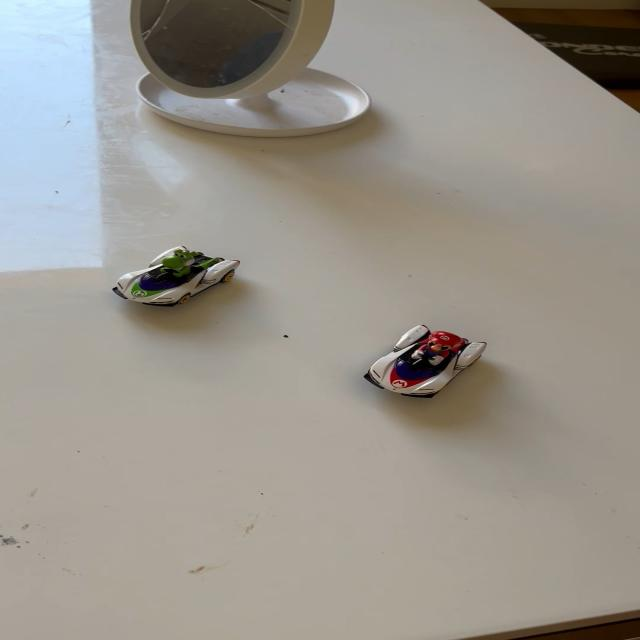mario: (347, 317, 505, 410)
yoshi: (104, 240, 253, 315)
